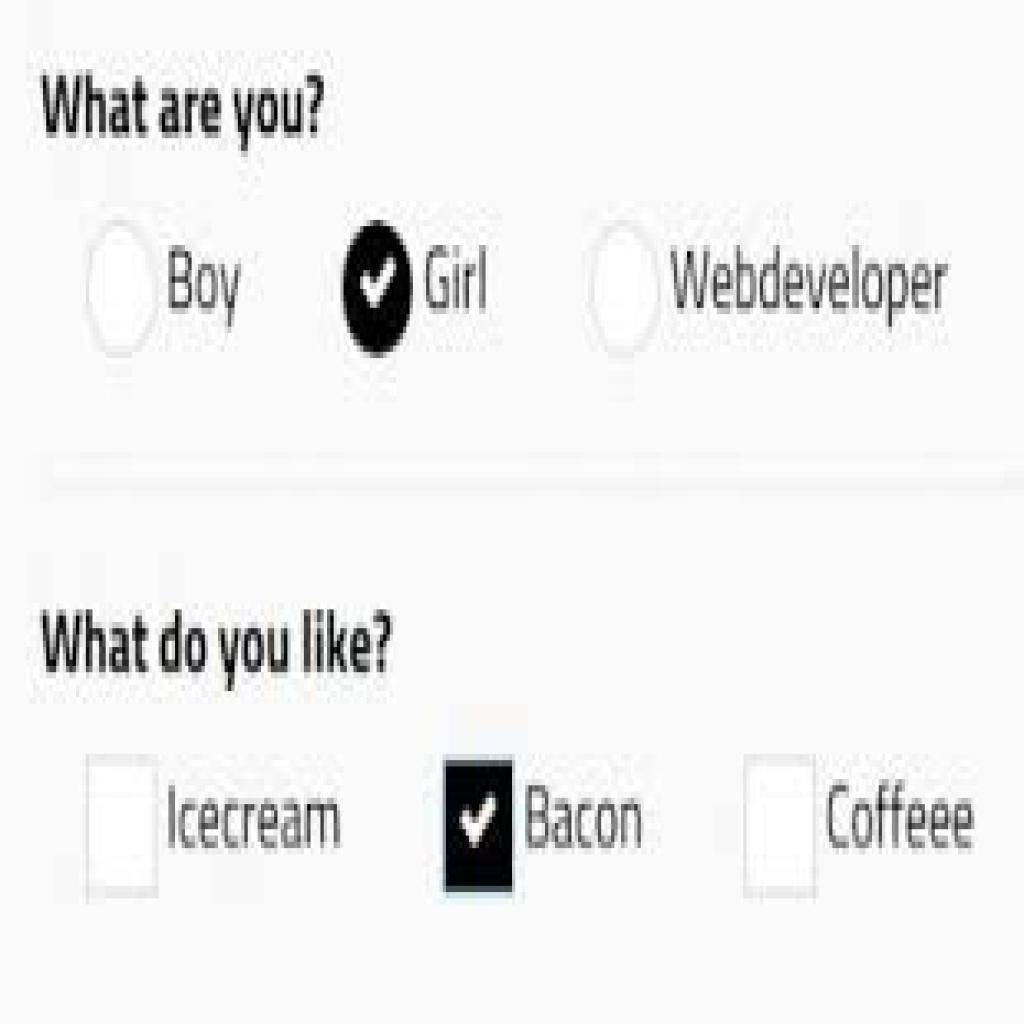checkbox: (740, 752, 820, 901), (84, 753, 160, 901), (441, 757, 516, 895)
label: (39, 601, 397, 696), (667, 239, 949, 335), (38, 63, 328, 156), (164, 777, 345, 856), (824, 777, 977, 857), (523, 779, 648, 854), (166, 241, 242, 333), (421, 237, 490, 318)
radio: (83, 212, 157, 361), (338, 218, 415, 361), (583, 221, 660, 356)
